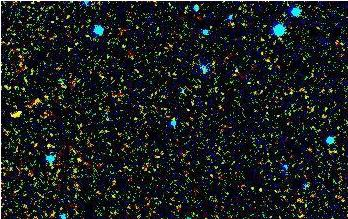star: (3, 98, 33, 128)
